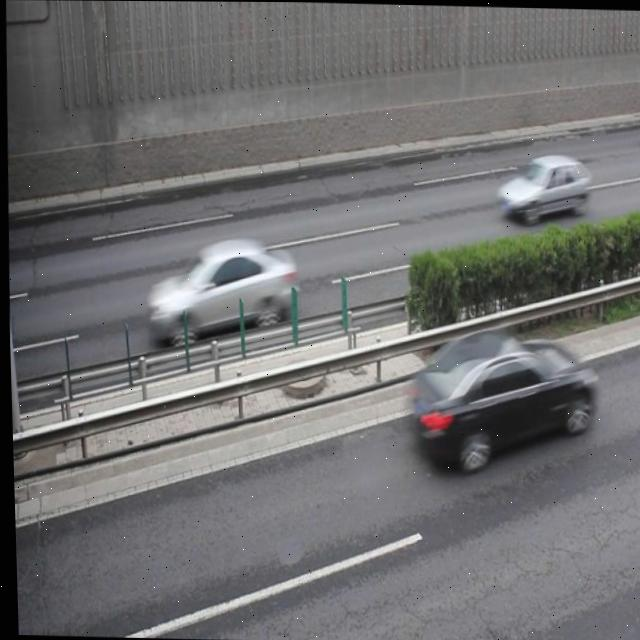car: (406, 324, 594, 465), (143, 233, 296, 346), (493, 149, 588, 220)
